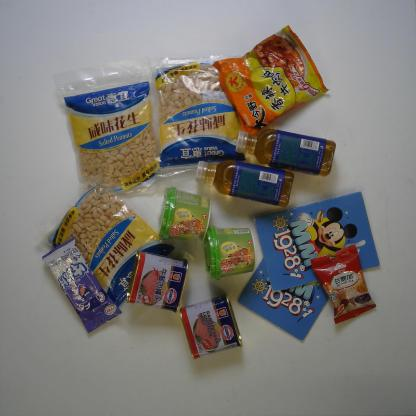Candy: (42, 237, 123, 334)
Canned Food: (179, 292, 243, 360), (126, 249, 189, 314)
Dried Fruit: (35, 175, 175, 307), (53, 58, 162, 194), (154, 56, 247, 177)
Drink: (235, 128, 338, 178), (194, 159, 294, 208)
Instant Drink: (310, 244, 377, 324), (201, 224, 255, 282), (158, 186, 212, 242)
Instant Noodles: (212, 23, 332, 138)
Stationery: (254, 190, 381, 293), (237, 257, 329, 342)
